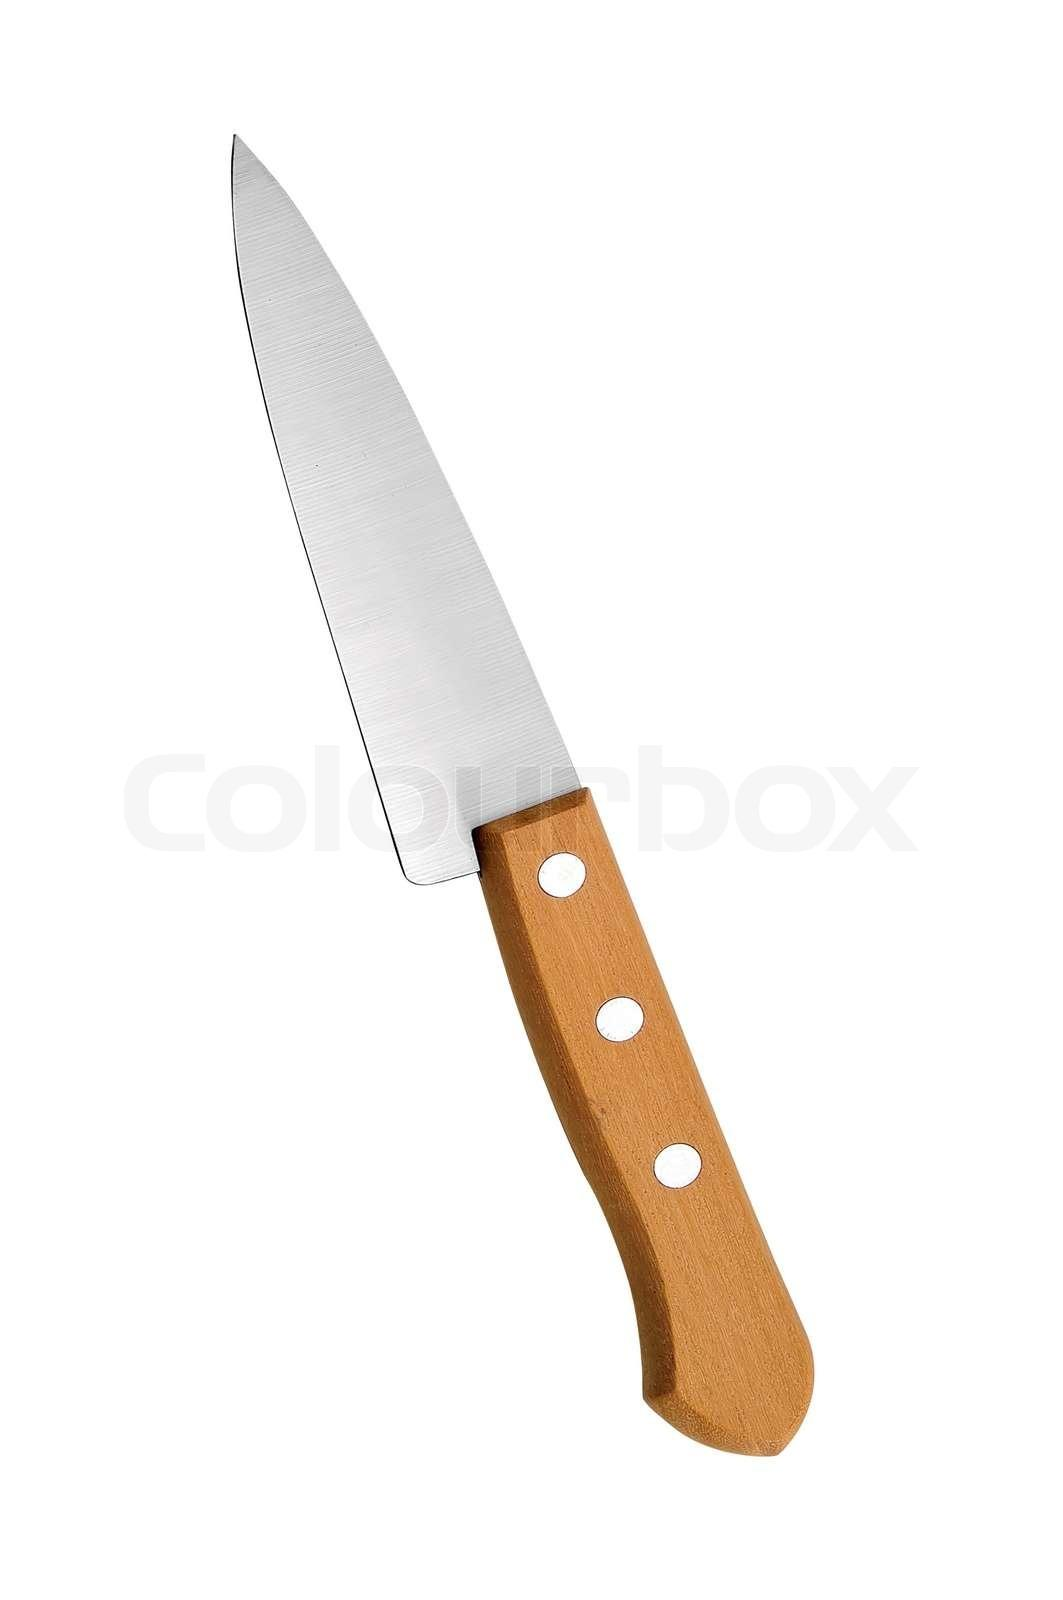Knife: (225, 130, 816, 1456)
